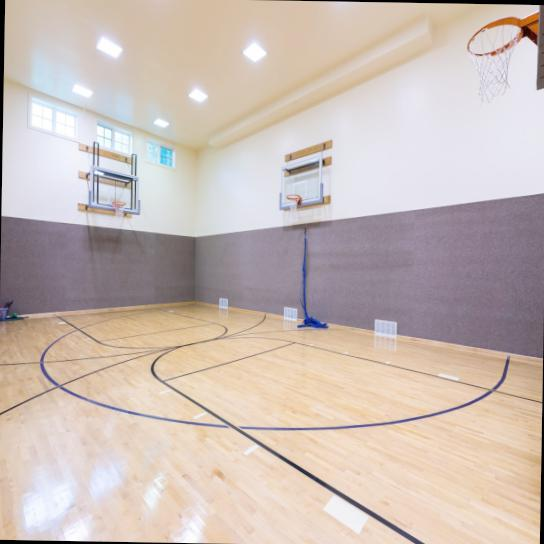basketball-hoop: (463, 12, 524, 102), (284, 194, 300, 215), (110, 200, 126, 219)
